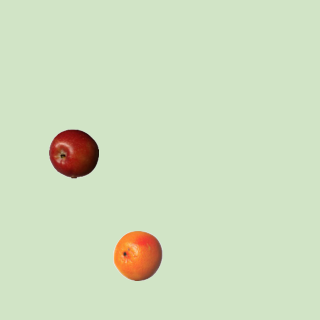Apple Braeburn: (48, 128, 98, 178)
Grapefruit Pink: (112, 230, 162, 280)
